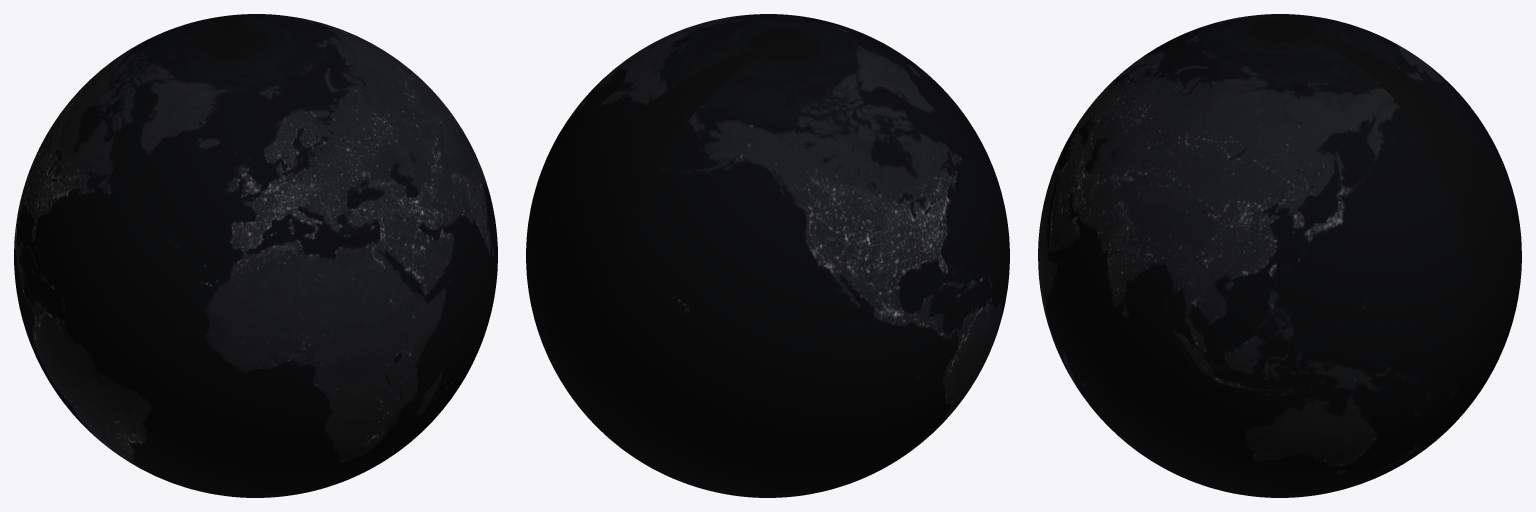
Rendered from mapteste.gltf.
The picture shows the model from 3 angles, left to right: view 1: azimuth 30°, elevation 25°; view 2: azimuth 150°, elevation 25°; view 3: azimuth 270°, elevation 25°; orthographic projection.
Parts seen in each view (by area): view 1: Earth; view 2: Earth; view 3: Earth.
Boxes of the visible parts, box(x1,y1,x2,y2) form: Earth: box(14, 14, 497, 497); Earth: box(526, 14, 1009, 497); Earth: box(1038, 14, 1521, 497).
Bounding box in the file's own units: 0.8111 × 0.8113 × 0.811.
Materials: 1 (1 with a texture image).
